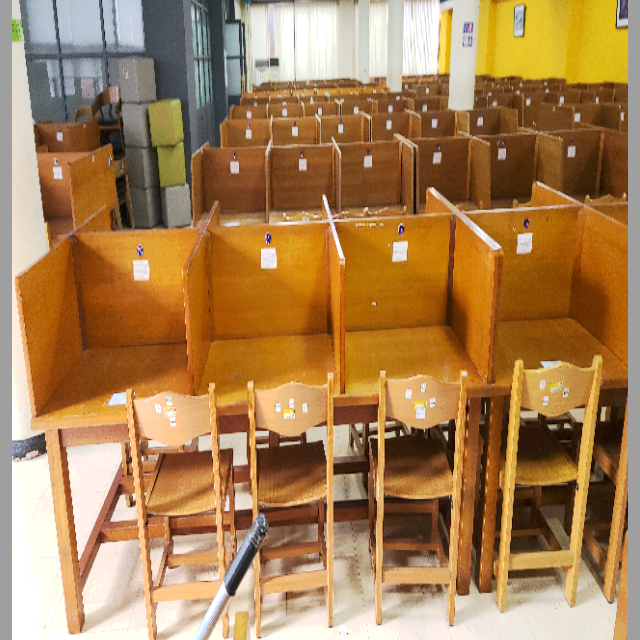empty: (20, 250, 190, 507), (193, 238, 346, 495), (352, 209, 492, 477)
